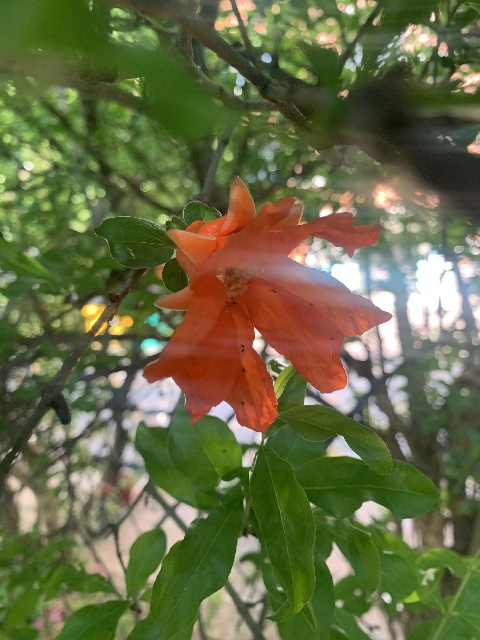flower: (143, 174, 392, 433)
